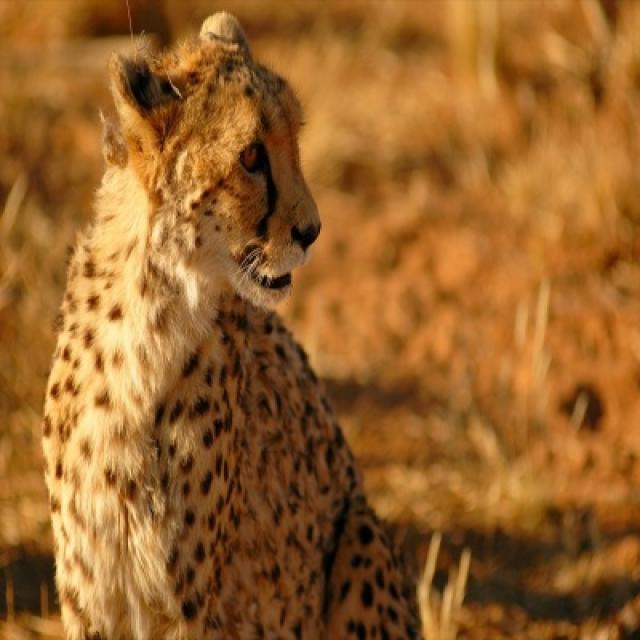Cheetah: (42, 13, 429, 638)
